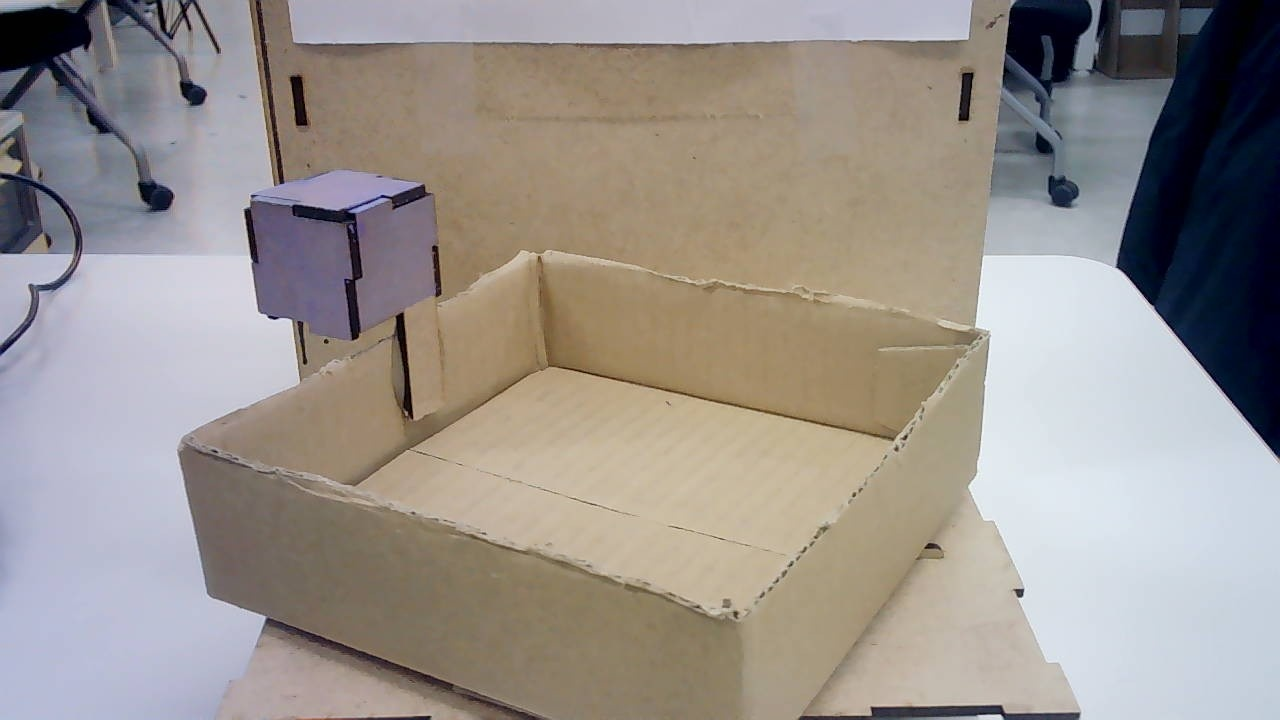pulple box: (242, 168, 444, 341)
